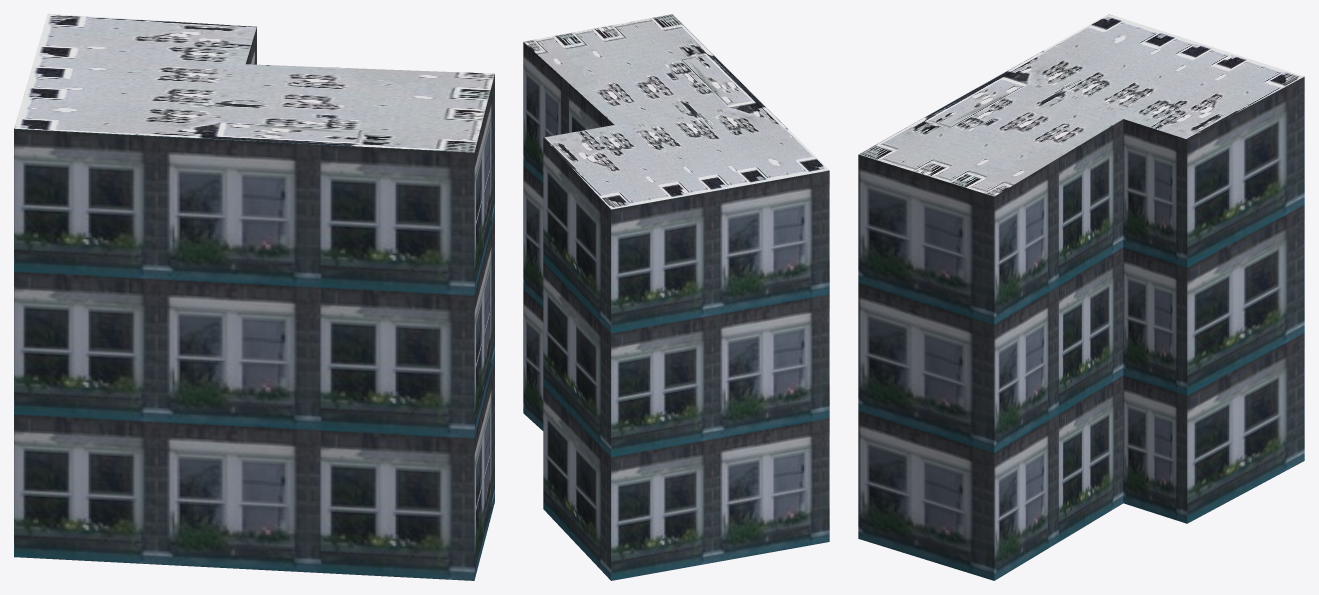
File: ResTex__206.fbx
3 renders of one model, left to right at view 1: azimuth 30°, elevation 25°; view 2: azimuth 150°, elevation 25°; view 3: azimuth 270°, elevation 25°, orthographic. The views are drawn at different scales.
Visible parts, largest first — view 1: CityEngineMaterial_11_m, CityEngineMaterial_8_m; view 2: CityEngineMaterial_11_m, CityEngineMaterial_8_m; view 3: CityEngineMaterial_11_m, CityEngineMaterial_8_m.
Part boxes in pixels (bbox=[...]): CityEngineMaterial_11_m: bbox=[14, 27, 494, 580]; CityEngineMaterial_8_m: bbox=[14, 14, 494, 152]; CityEngineMaterial_11_m: bbox=[523, 42, 829, 580]; CityEngineMaterial_8_m: bbox=[523, 14, 829, 209]; CityEngineMaterial_11_m: bbox=[858, 76, 1304, 580]; CityEngineMaterial_8_m: bbox=[858, 14, 1303, 196].
Size of the model in its own units: 9.17 by 9 by 9.47.
Materials: 2 (2 with a texture image).
